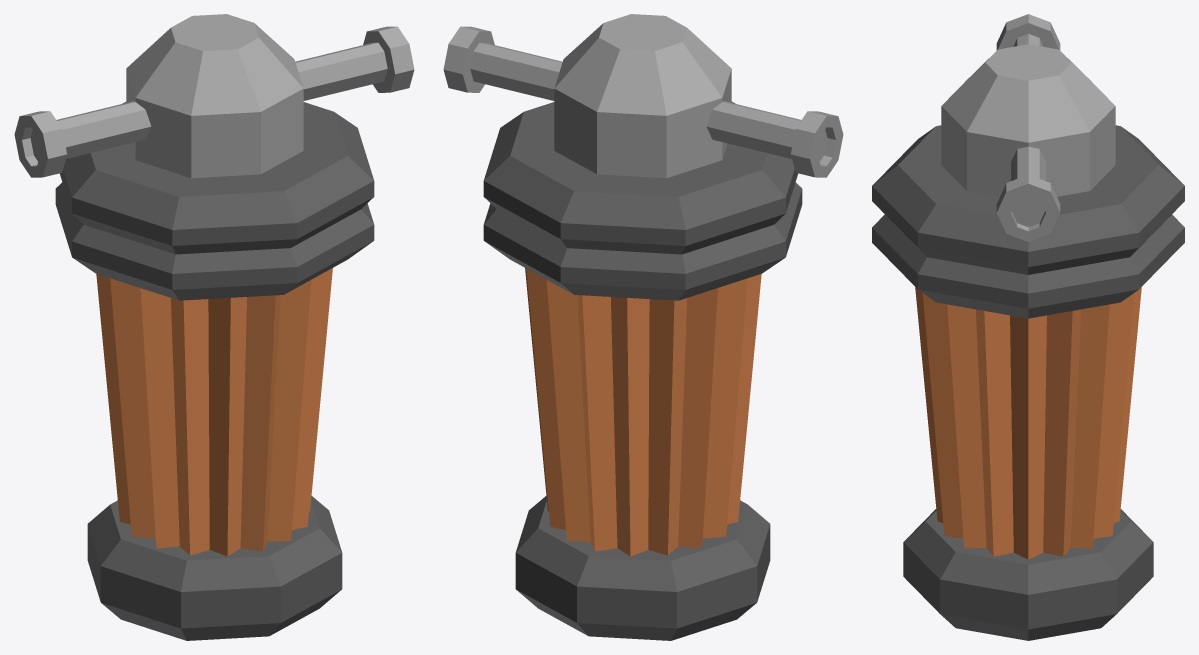
File: SM_OxyScrubber.fbx
3 renders of one model, left to right at view 1: azimuth 30°, elevation 25°; view 2: azimuth 150°, elevation 25°; view 3: azimuth 270°, elevation 25°, orthographic. The views are drawn at different scales.
Parts seen in each view (by area): view 1: SM_OxygenFilter; view 2: SM_OxygenFilter; view 3: SM_OxygenFilter.
Boxes of the visible parts, x1,y1,x2,y2 form: SM_OxygenFilter: (14, 14, 414, 640); SM_OxygenFilter: (443, 14, 843, 640); SM_OxygenFilter: (872, 14, 1184, 640).
Size of the model in its own units: 36.57 by 53.78 by 28.5.
